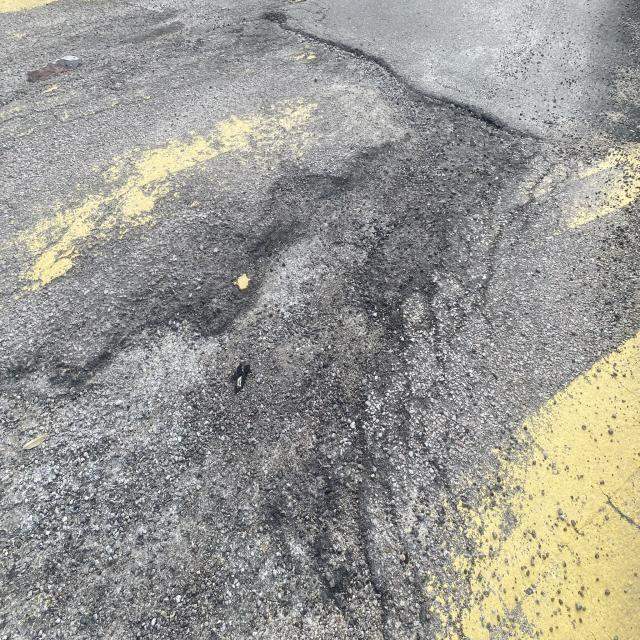Pothole: (63, 149, 419, 571), (255, 0, 560, 138)
